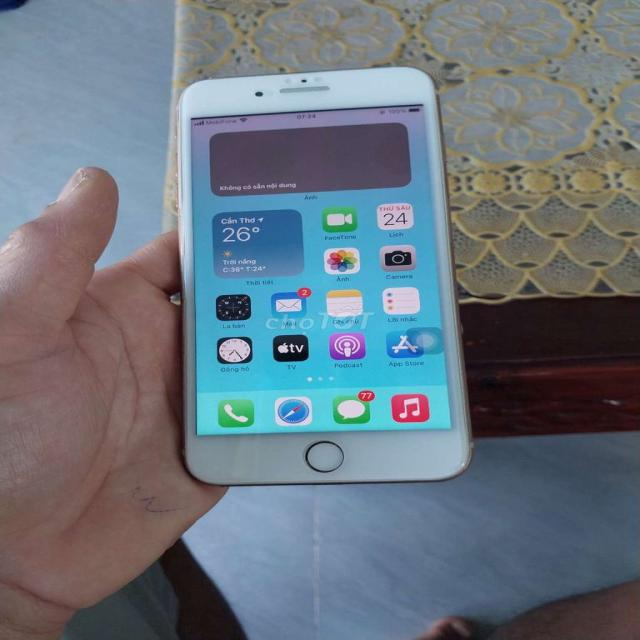gen_7_8: (161, 67, 484, 488)
